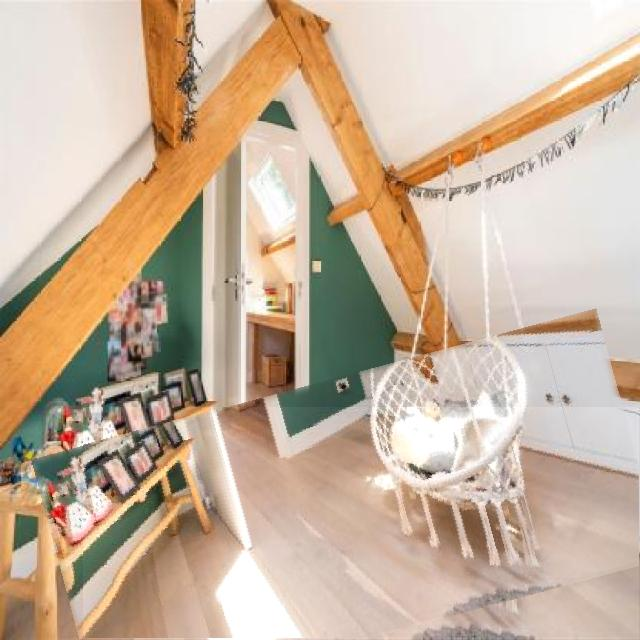floor: (84, 407, 640, 639)
